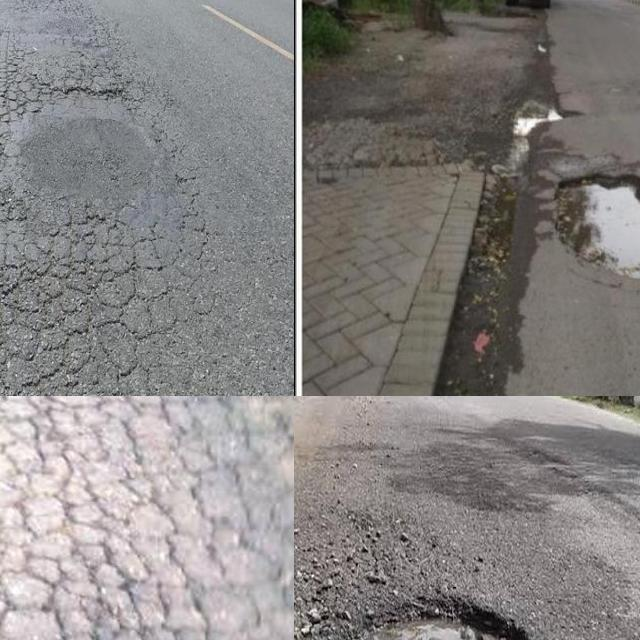Lubang: (556, 166, 640, 285)
Retak Buaya: (0, 64, 219, 396), (0, 396, 294, 640)
